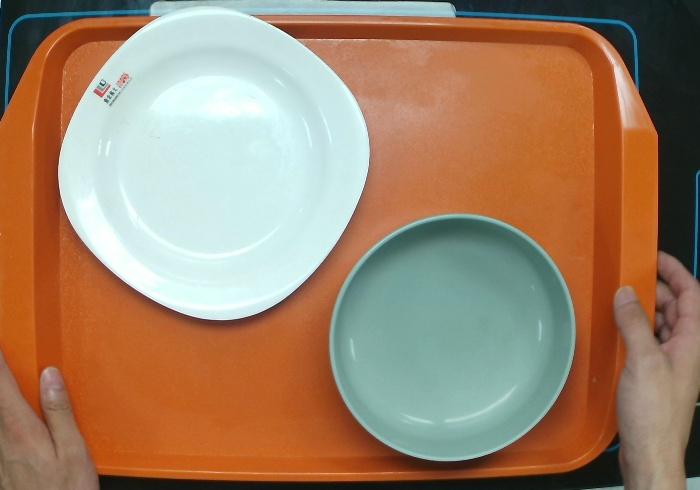ZNLD-Qing_Hua_Yuan_Wan: (323, 199, 580, 467)
ZNLD-Yuan_Jiao_Pan: (45, 3, 380, 333)
